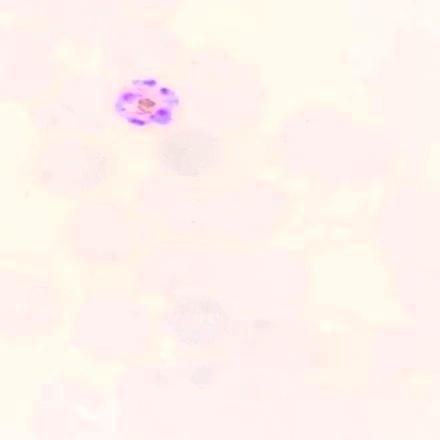Infected: (109, 78, 184, 132)
